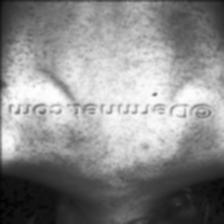Non-Cancerous Skin Condition: (0, 6, 220, 98), (0, 120, 224, 170), (75, 176, 158, 217)
